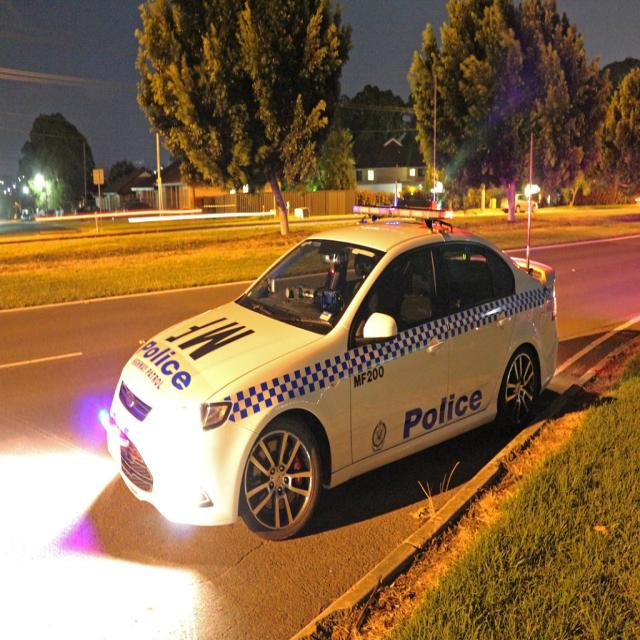car: (100, 208, 560, 544)
